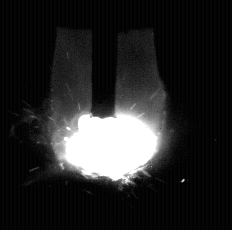arame: (93, 0, 116, 118)
poca: (49, 0, 162, 230)
